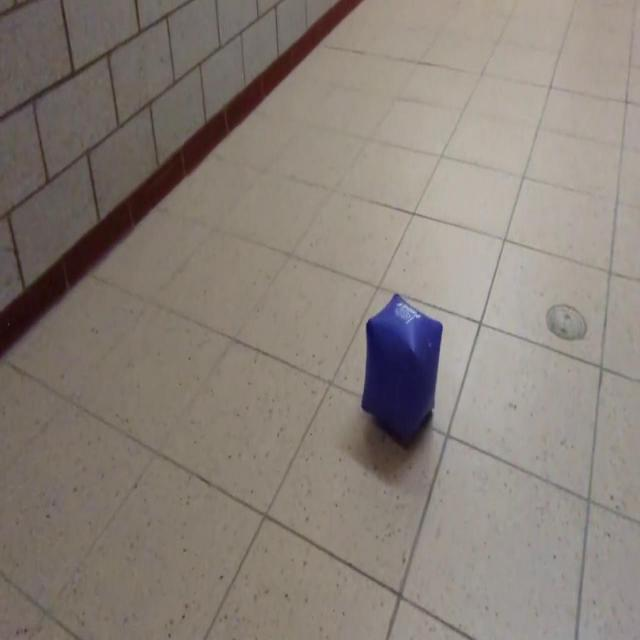frc_cube: (358, 290, 446, 445)
